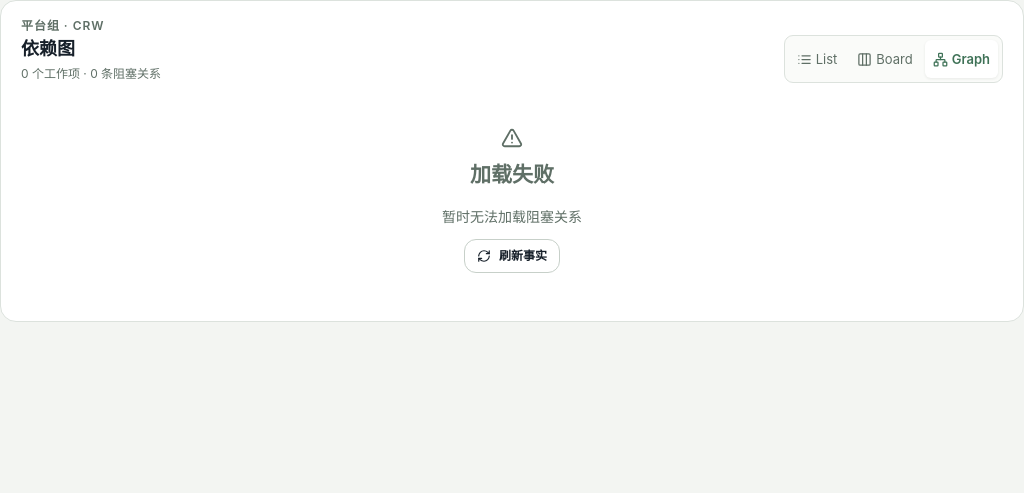
Test: WorkGraphWorkspace › surfaces the aggregate error with a retry instead of a blank pane
The width and height of the screenshot is (1024, 493).
Step 1. Click the button "刷新事实" → (512, 256), box [464,239,560,273]
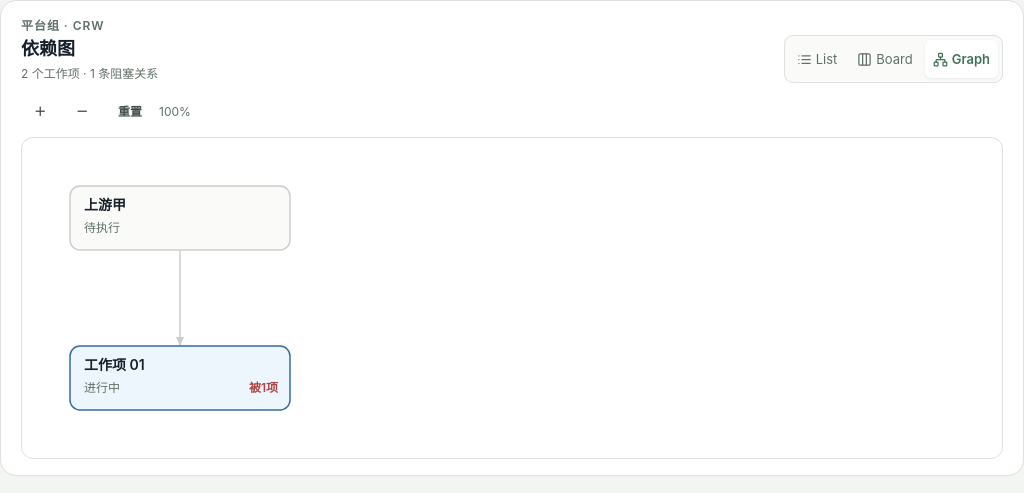
Now the element with class "graph-canvas" is shown
